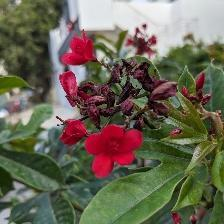jatropha: (86, 125, 145, 180)
